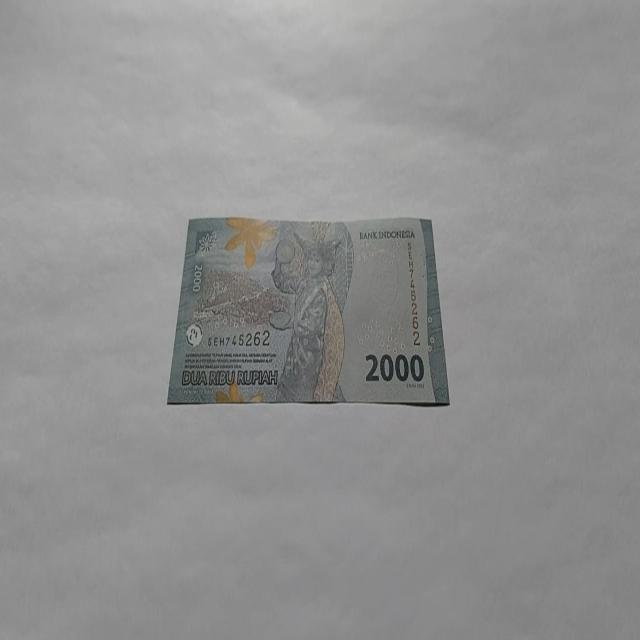dua ribu rupiah: (166, 213, 450, 407), (268, 229, 346, 403)
